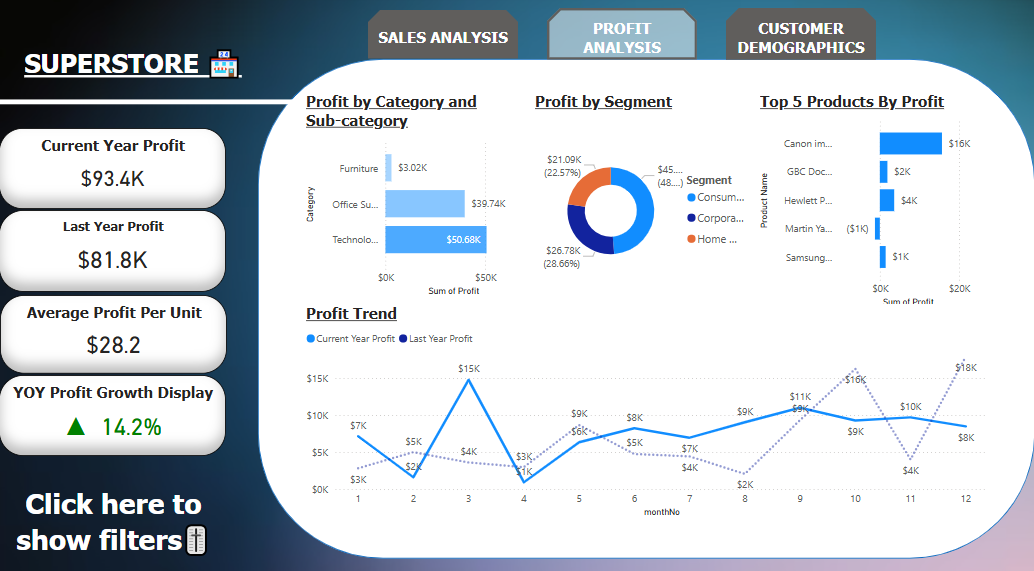

The dashboard page shown, as its layout file describes it:
{"tool":"powerbi","page":{"name":"PROFIT ANALYSIS","canvas":[1280,720],"ordinal":1},"visuals":[{"type":"actionButton","box":[455.2,16.9,185.4,59.9],"z":0,"group":"g4"},{"type":"textbox","box":[19.7,55.5,291.3,64.2],"z":0},{"type":"clusteredBarChart","title":"Profit by Category and Sub-category","fields":{"Category":["orders.Category","orders.Sub-Category"],"Y":["Sum(orders.Profit)"]},"box":[374,119,290.6,256.6],"z":0,"group":"g1"},{"type":"card","title":"Current Year Profit","fields":{"Values":["orders.Current Year Profit"]},"box":[0,162.6,279.9,99.8],"z":0,"group":"g2"},{"type":"card","title":"YOY Profit Growth Display","fields":{"Values":["orders.YoY Profit Growth Display"]},"box":[0,468,280,100],"z":0,"group":"g3"},{"type":"actionButton","box":[675.8,14.7,185.3,63.8],"z":1000,"group":"g4"},{"type":"shape","box":[320.1,77.6,959,616.7],"z":1000},{"type":"donutChart","title":"Profit by Segment","fields":{"Category":["orders.Segment"],"Y":["Sum(orders.Profit)"]},"box":[656.8,119.2,278,270.2],"z":1000,"group":"g1"},{"type":"card","title":"Last Year Profit","fields":{"Values":["orders.Last Year Profit"]},"box":[0,263.3,279.9,101.2],"z":1000,"group":"g2"},{"type":"actionButton","box":[896.7,14.7,185.3,63.8],"z":2000,"group":"g4"},{"type":"group","id":"g1","title":"Group 4","box":[374,119,852.5,529.6],"z":2000},{"type":"barChart","title":"Top 5 Products By Profit","fields":{"Category":["orders.Product Name"],"Y":["Sum(orders.Profit)"]},"box":[934.8,119.2,291.7,270.2],"z":2000,"group":"g1"},{"type":"card","title":"Average Profit Per Unit","fields":{"Values":["orders.Avg Profit Per Unit (Current)"]},"box":[1.4,368.3,279.9,97],"z":2000,"group":"g2"},{"type":"group","id":"g2","title":"Group 5","box":[0,162.6,281.3,405.4],"z":3000},{"type":"lineChart","title":"Profit Trend","fields":{"Category":["orders.monthNo"],"Y":["orders.Current Year Profit","orders.Last Year Profit"]},"box":[374.2,381,851.6,267.6],"z":3000,"group":"g1"},{"type":"group","id":"g3","title":"Group 3","box":[0,468,280,100],"z":3000,"group":"g2"},{"type":"shape","box":[1.4,593.2,279.9,110.9],"z":4000},{"type":"group","id":"g4","title":"Group 6","box":[455.2,14.7,626.7,63.8],"z":6000},{"type":"shape","box":[0,103.1,365.6,54],"z":7000}]}

Visuals, with their boxes in screenshot pixels (x1, y1, x2, y2), scaled from the page's 1280x720 canvas onto the 1034x571 screenshot:
actionButton: pyautogui.locateOnScreen(368, 13, 517, 61)
textbox: pyautogui.locateOnScreen(16, 44, 251, 95)
"Profit by Category and Sub-category" clusteredBarChart: pyautogui.locateOnScreen(302, 94, 537, 298)
"Current Year Profit" card: pyautogui.locateOnScreen(0, 129, 226, 208)
"YOY Profit Growth Display" card: pyautogui.locateOnScreen(0, 371, 226, 450)
actionButton: pyautogui.locateOnScreen(546, 12, 696, 62)
shape: pyautogui.locateOnScreen(259, 62, 1033, 551)
"Profit by Segment" donutChart: pyautogui.locateOnScreen(531, 95, 755, 309)
"Last Year Profit" card: pyautogui.locateOnScreen(0, 209, 226, 289)
actionButton: pyautogui.locateOnScreen(724, 12, 874, 62)
"Group 4" group: pyautogui.locateOnScreen(302, 94, 991, 514)
"Top 5 Products By Profit" barChart: pyautogui.locateOnScreen(755, 95, 991, 309)
"Average Profit Per Unit" card: pyautogui.locateOnScreen(1, 292, 227, 369)
"Group 5" group: pyautogui.locateOnScreen(0, 129, 227, 450)
"Profit Trend" lineChart: pyautogui.locateOnScreen(302, 302, 990, 514)
"Group 3" group: pyautogui.locateOnScreen(0, 371, 226, 450)
shape: pyautogui.locateOnScreen(1, 470, 227, 558)
"Group 6" group: pyautogui.locateOnScreen(368, 12, 874, 62)
shape: pyautogui.locateOnScreen(0, 82, 295, 125)
